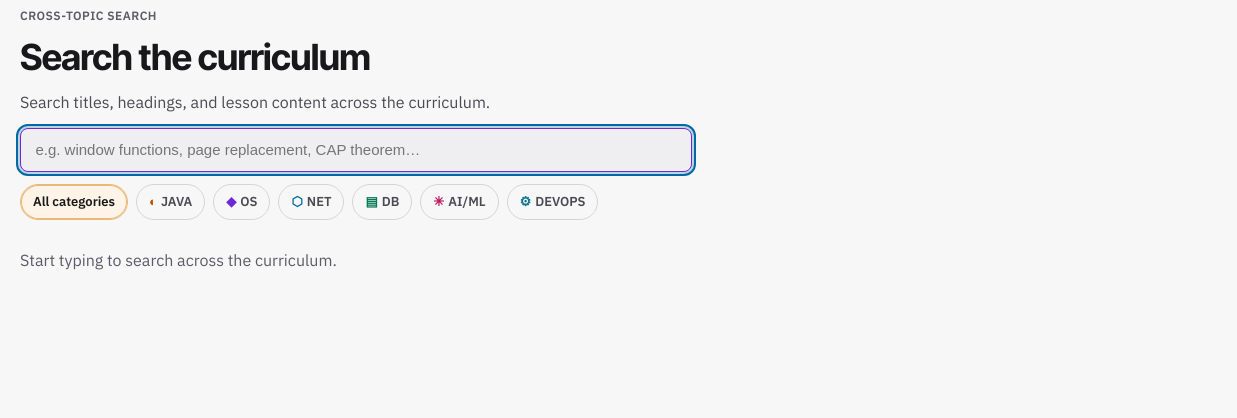
Scenario: SearchPage › shows an error state when the search request fails
This screenshot has width=1237, height=418.
Type "anything" into the search field.
click(356, 150); type("anything")  # box [20,128,692,172]
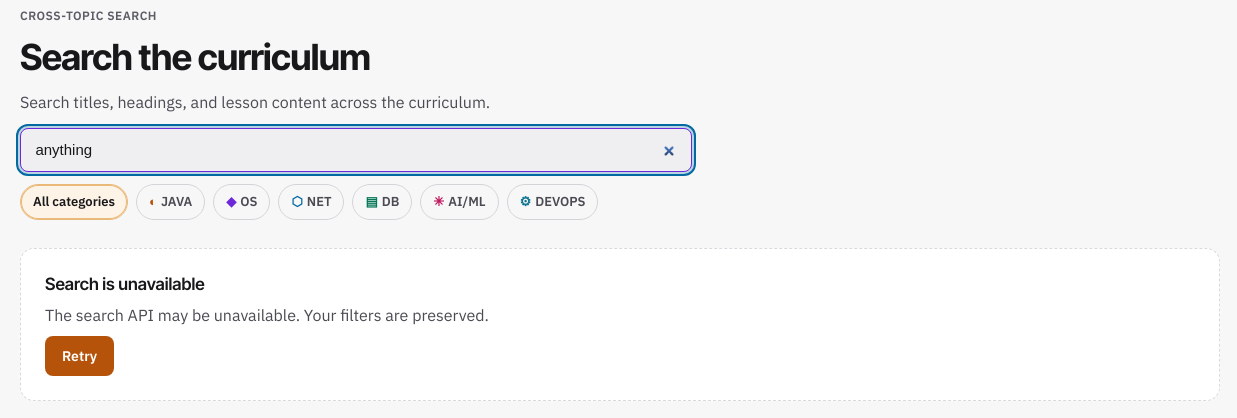
Check: the heading "Search is unavailable" is shown, box [45,273,205,295]
